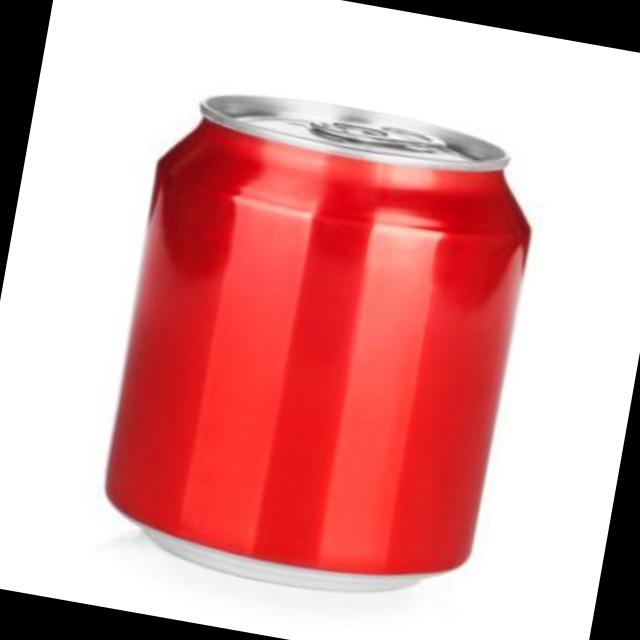metal: (108, 92, 530, 585)
